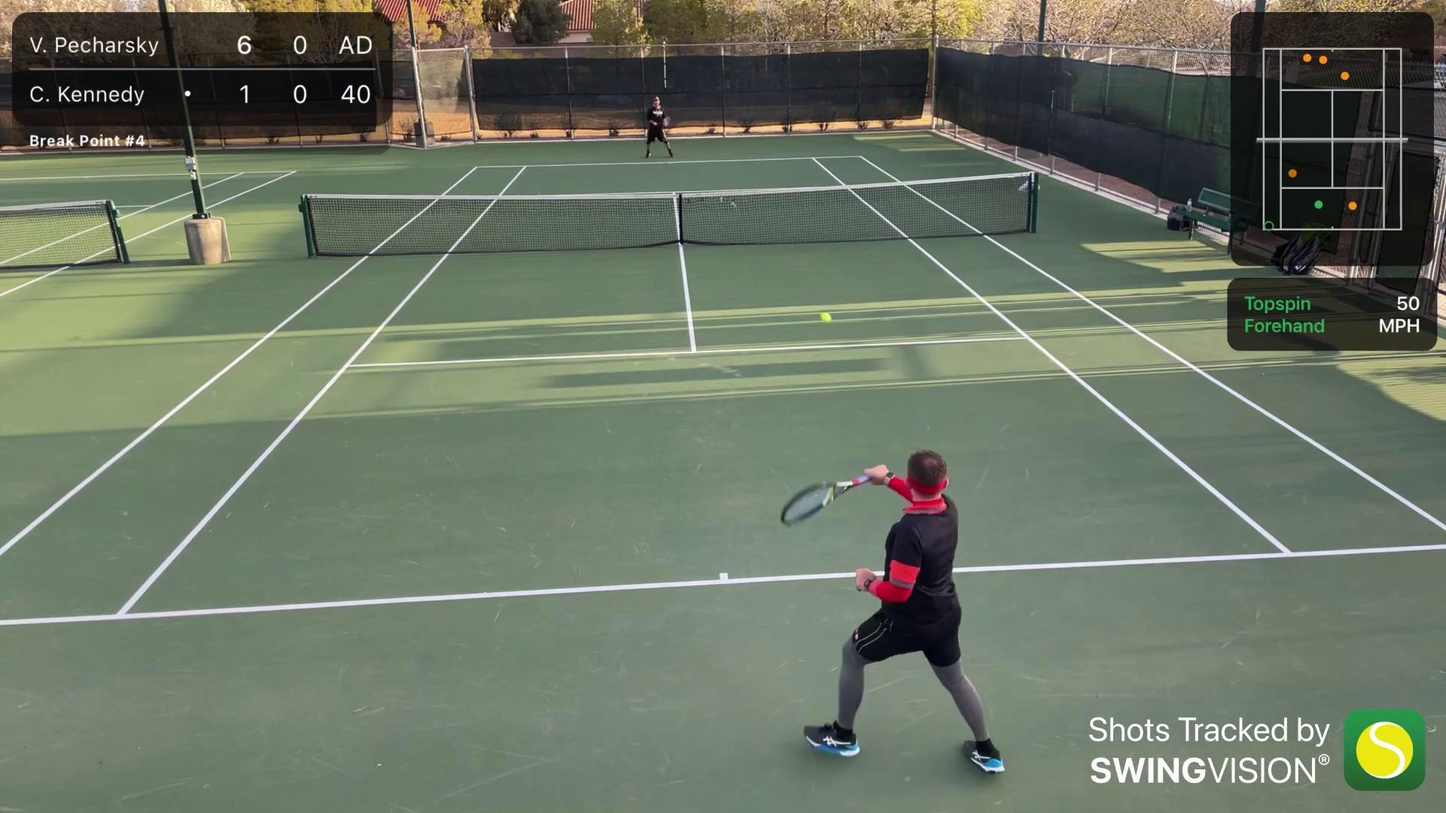ball: (816, 311, 834, 326)
